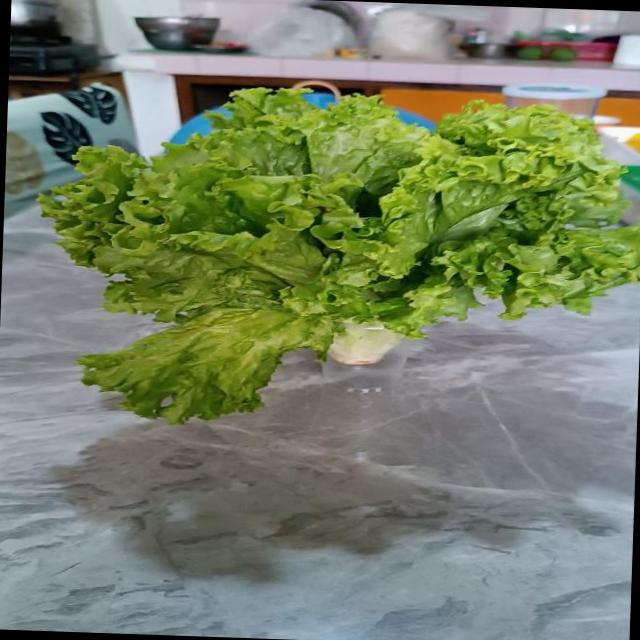Lettuce-Ready-to-Harvest: (249, 225, 323, 283)
